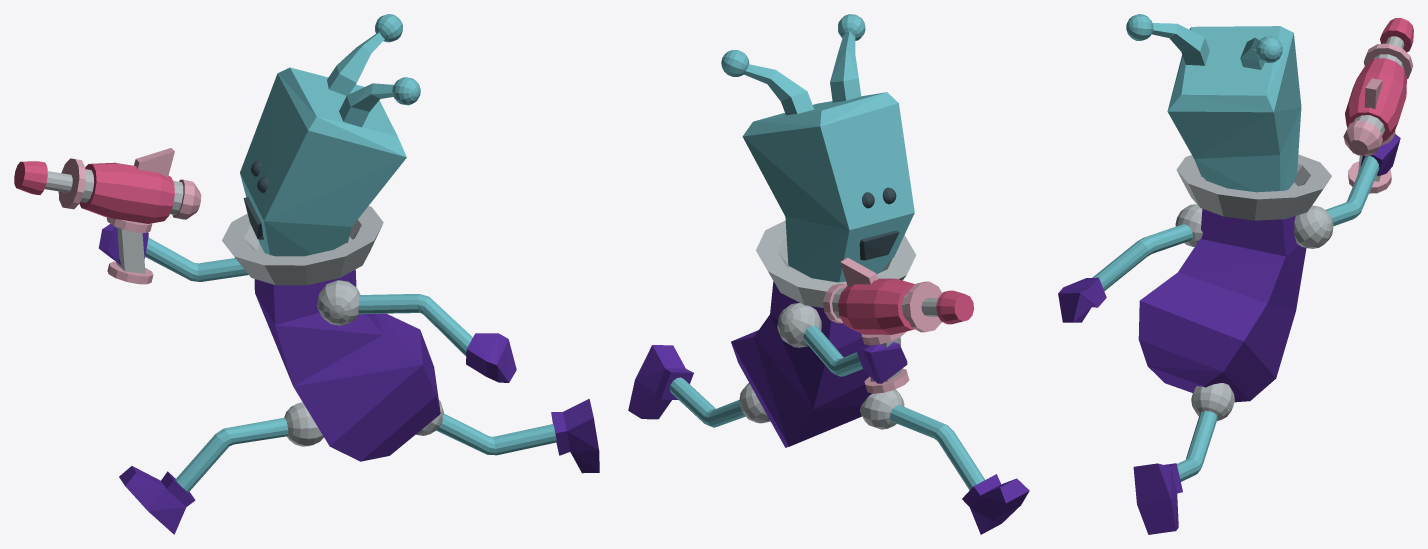
The model's file is Pew Pew.glb.
The picture shows the model from 3 angles, left to right: view 1: azimuth 30°, elevation 25°; view 2: azimuth 150°, elevation 25°; view 3: azimuth 270°, elevation 25°; orthographic projection. The views are drawn at different scales.
Parts seen in each view (by area): view 1: node_MeshObject1376591488-PolyPaper6; view 2: node_MeshObject1376591488-PolyPaper6; view 3: node_MeshObject1376591488-PolyPaper6.
Boxes of the visible parts, x1,y1,x2,y2 form: node_MeshObject1376591488-PolyPaper6: (14,14,599,534); node_MeshObject1376591488-PolyPaper6: (628,14,1029,534); node_MeshObject1376591488-PolyPaper6: (1058,14,1413,534).
Bounding box in the file's own units: 0.9326 × 0.8641 × 0.6492.
